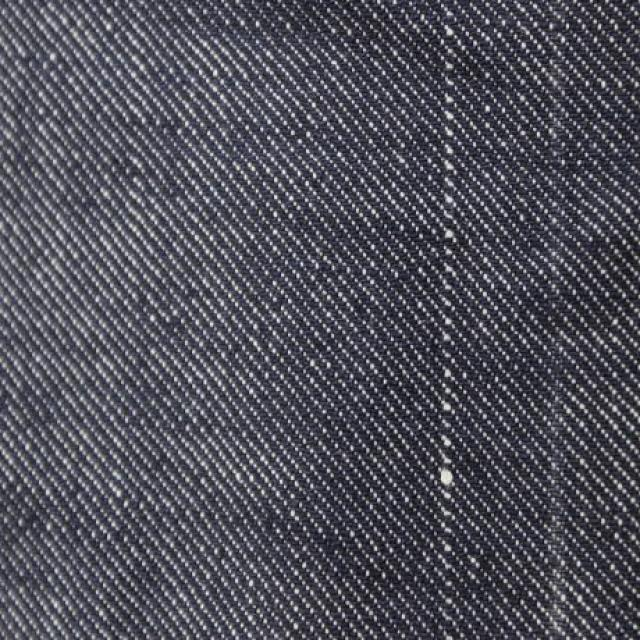stains: (369, 63, 510, 640)
